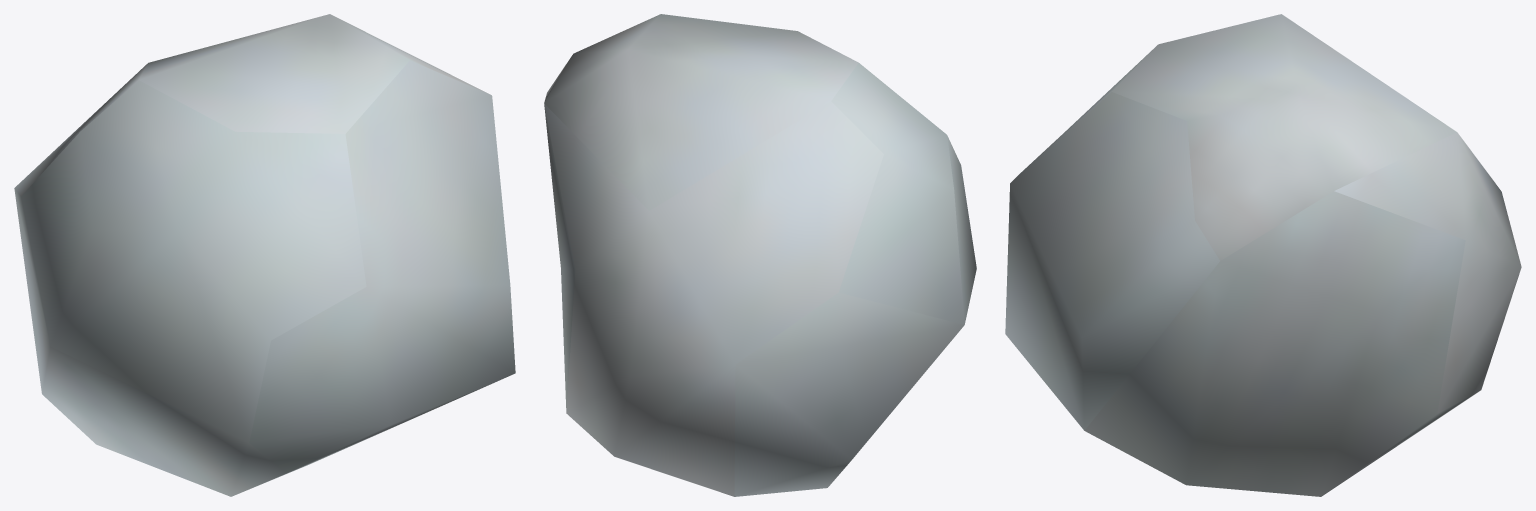
The model's file is P_RockClassic1.obj.
The picture shows the model from 3 angles, left to right: view 1: azimuth 30°, elevation 25°; view 2: azimuth 150°, elevation 25°; view 3: azimuth 270°, elevation 25°; orthographic projection. The views are drawn at different scales.
Bounding box in the file's own units: 0.7283 × 0.6499 × 0.7562.
